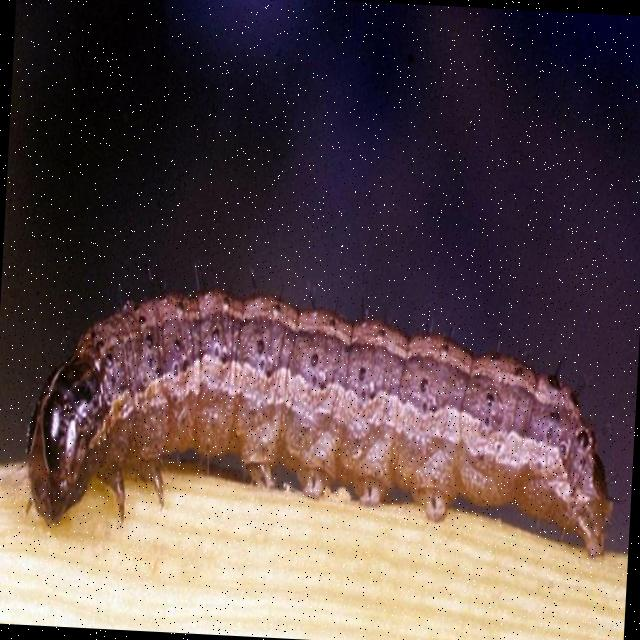worm: (21, 261, 632, 563)
